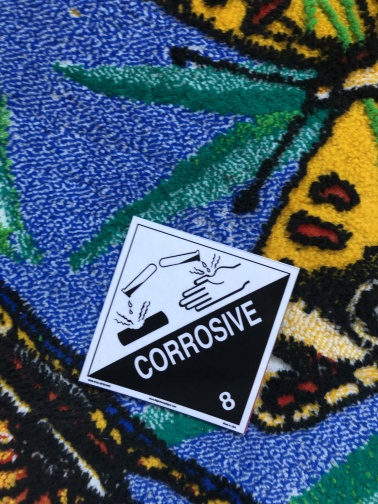Corrosive: (80, 215, 301, 436)
